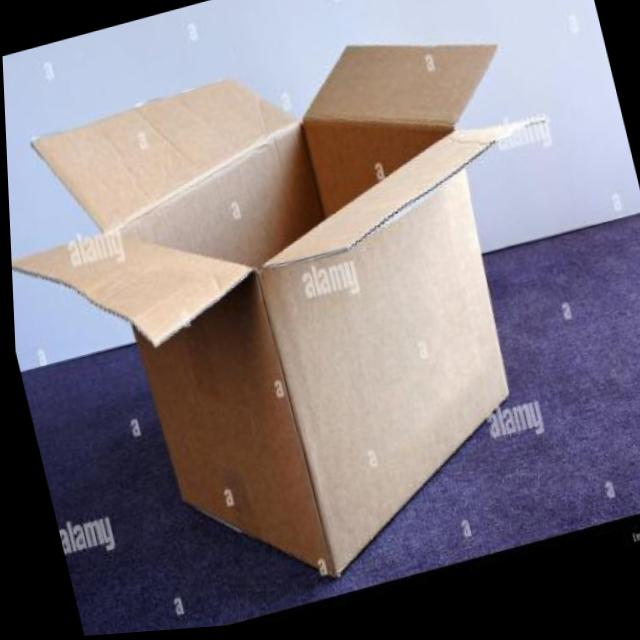box: (1, 0, 613, 640)
